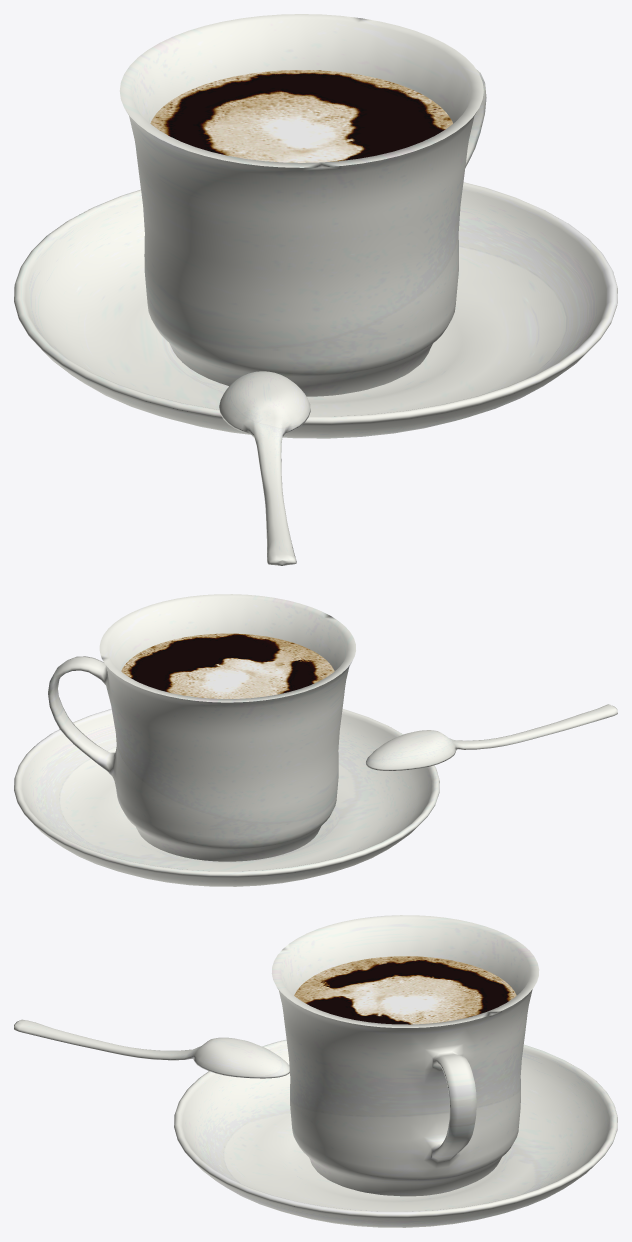
Rendered from coffeecup.FBX.
The picture shows the model from 3 angles, top to bottom: view 1: azimuth 30°, elevation 25°; view 2: azimuth 150°, elevation 25°; view 3: azimuth 270°, elevation 25°; orthographic projection. The views are drawn at different scales.
Parts seen in each view (by area): view 1: Cylinder002; view 2: Cylinder002; view 3: Cylinder002.
Part boxes in pixels (bbox=[...]): Cylinder002: bbox=[14, 14, 617, 565]; Cylinder002: bbox=[14, 594, 617, 886]; Cylinder002: bbox=[14, 915, 617, 1227].
Bounding box in the file's own units: 116 × 51.58 × 147.
